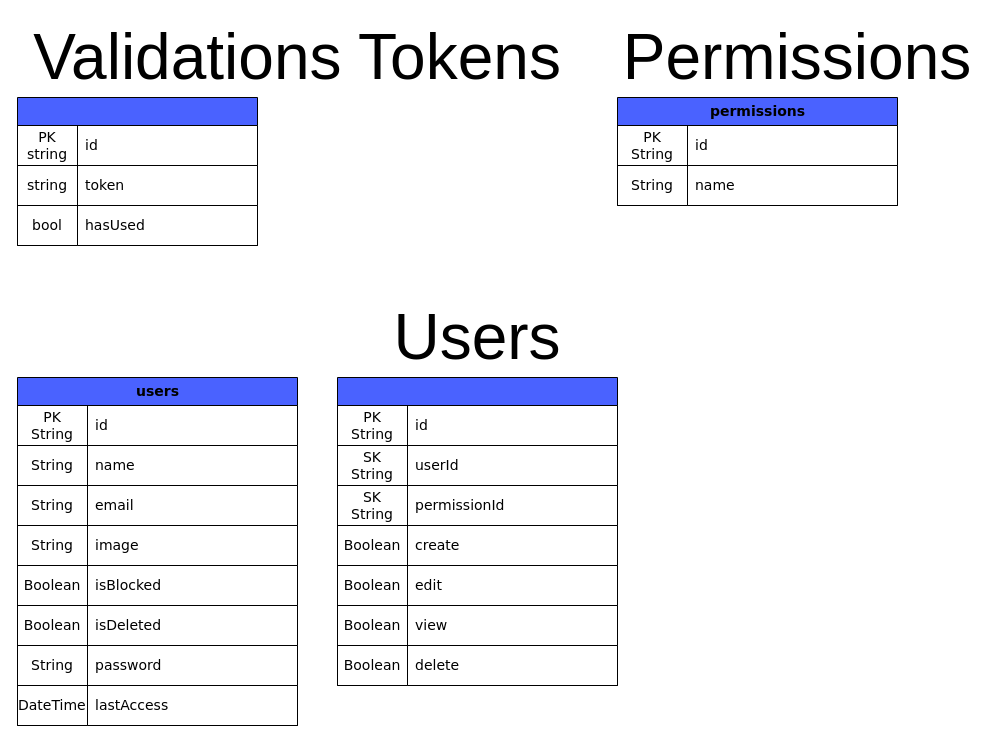
Image size: 995x743. Some labels were removed from this diagram. The box of each missing label's shape, as (x1, y1, x2, y2) in pixels:
usersPermissions: (336, 376, 618, 686)
validationsTokens: (16, 96, 258, 246)
